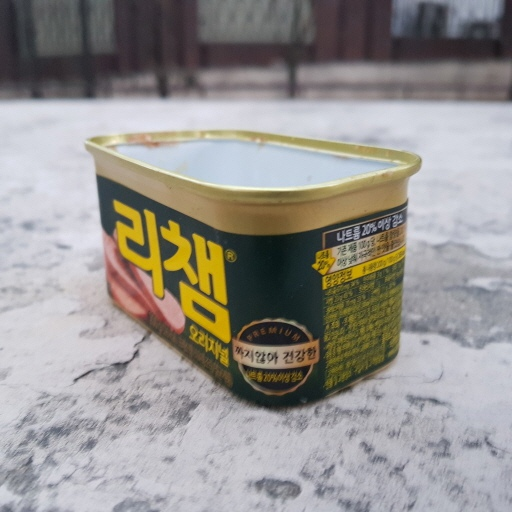Metal_2: (81, 121, 423, 409)
